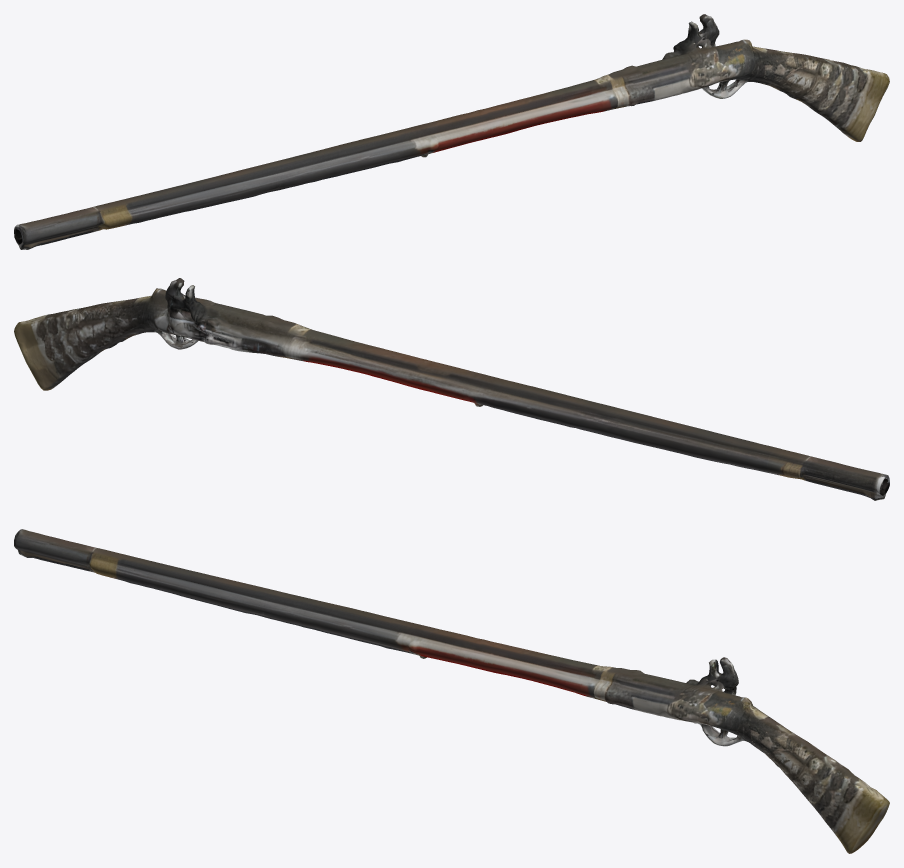
The model's file is Jeferdar_1101142510_texture.fbx.
3 renders of one model, top to bottom at view 1: azimuth 30°, elevation 25°; view 2: azimuth 150°, elevation 25°; view 3: azimuth 330°, elevation 25°, orthographic.
Visible parts, largest first — view 1: input; view 2: input; view 3: input.
Part boxes in pixels (left/top/right/bottom): input: left=14, top=14, right=889, bottom=249; input: left=14, top=278, right=889, bottom=500; input: left=14, top=529, right=889, bottom=853.
Bounding box in the file's own units: 191 × 31.91 × 11.05.
Materials: 1 (1 with a texture image).
